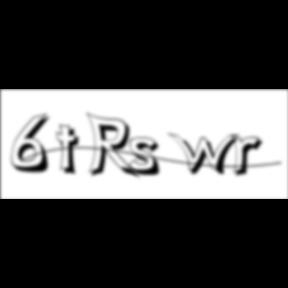6: (12, 112, 56, 176)
R: (87, 112, 144, 182)
r: (231, 134, 269, 180)
s: (128, 137, 168, 179)
t: (56, 124, 86, 179)
w: (168, 132, 246, 178)
